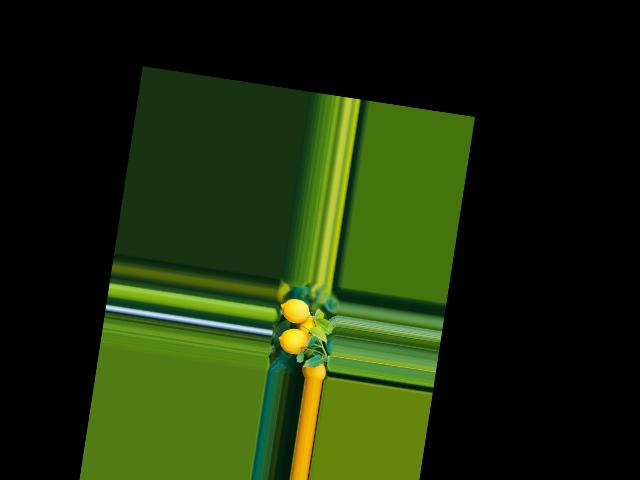lemon: (279, 297, 312, 324)
